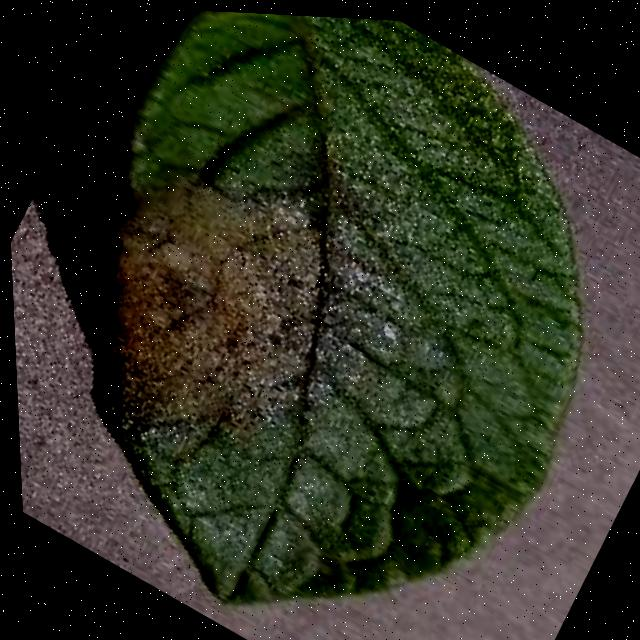Late_blight: (4, 82, 441, 541)
